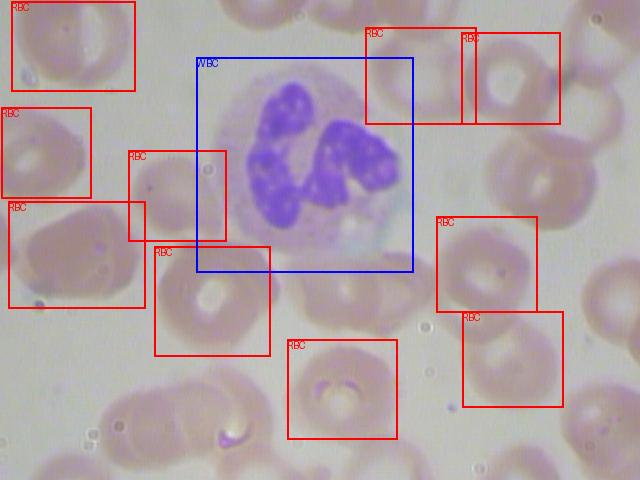RBC: (8, 201, 145, 308), (154, 246, 270, 356), (11, 1, 135, 91), (287, 339, 397, 439), (365, 27, 476, 124), (462, 311, 563, 407), (436, 216, 537, 312), (461, 32, 560, 124), (128, 150, 226, 241), (1, 107, 91, 198)
WBC: (196, 57, 413, 272)
